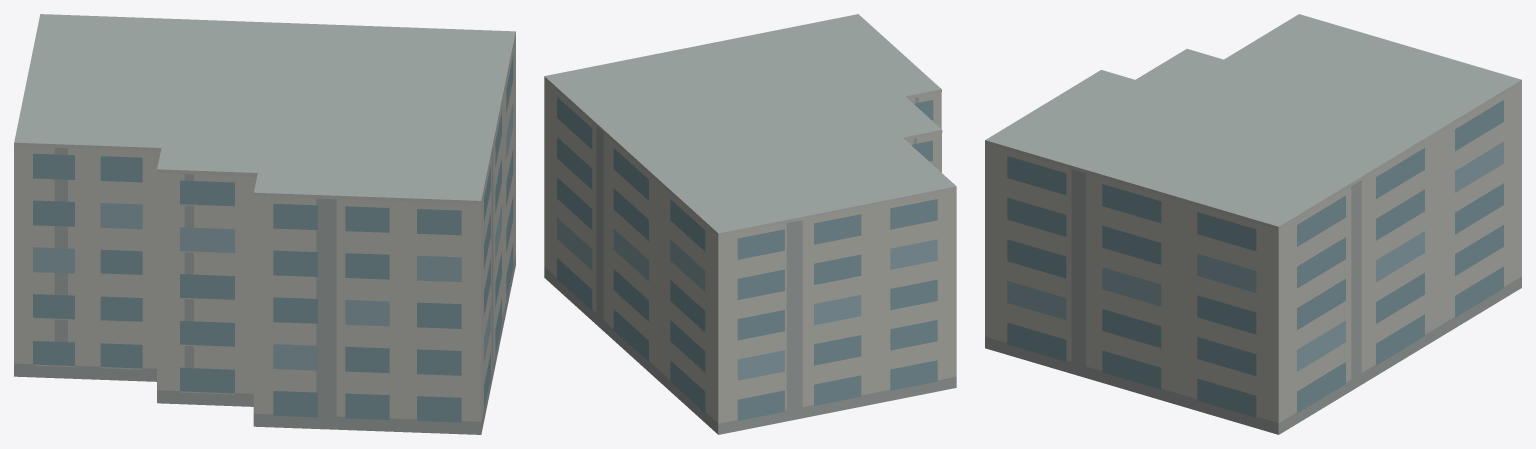
The model's file is residential-622be2dc-5110-4576-b3ca-6fb57f1d8bd1.glb.
The picture shows the model from 3 angles, left to right: view 1: azimuth 30°, elevation 25°; view 2: azimuth 150°, elevation 25°; view 3: azimuth 270°, elevation 25°; orthographic projection. The views are drawn at different scales.
Visible parts, largest first — view 1: residential-622be2dc-5110-4576-b3ca-6fb57f1d8bd1.tmp; view 2: residential-622be2dc-5110-4576-b3ca-6fb57f1d8bd1.tmp; view 3: residential-622be2dc-5110-4576-b3ca-6fb57f1d8bd1.tmp.
Part boxes in pixels (x1,y1,x2,y2): residential-622be2dc-5110-4576-b3ca-6fb57f1d8bd1.tmp: (14,14,515,434); residential-622be2dc-5110-4576-b3ca-6fb57f1d8bd1.tmp: (544,14,956,434); residential-622be2dc-5110-4576-b3ca-6fb57f1d8bd1.tmp: (985,14,1521,434).
Bounding box in the file's own units: 33.45 × 15.25 × 35.65.
